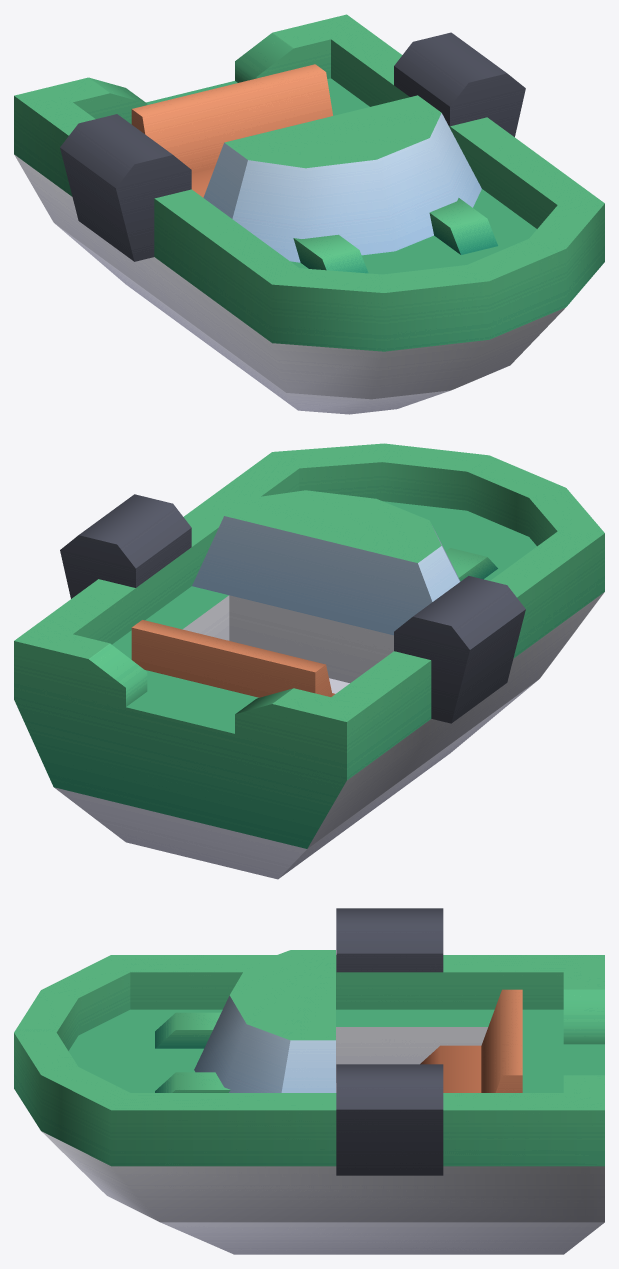
File: boat_speed_f.glb
3 renders of one model, top to bottom at view 1: azimuth 30°, elevation 25°; view 2: azimuth 150°, elevation 25°; view 3: azimuth 270°, elevation 25°, orthographic. The views are drawn at different scales.
Parts seen in each view (by area): view 1: boat-speed-f; view 2: boat-speed-f; view 3: boat-speed-f.
Boxes of the visible parts, box(x1,y1,x2,y2) form: boat-speed-f: box(14, 14, 604, 414); boat-speed-f: box(14, 443, 604, 879); boat-speed-f: box(14, 908, 604, 1254).
Size of the model in its own units: 2.2 by 1.2 by 2.87.
1 material, 1 textured.
